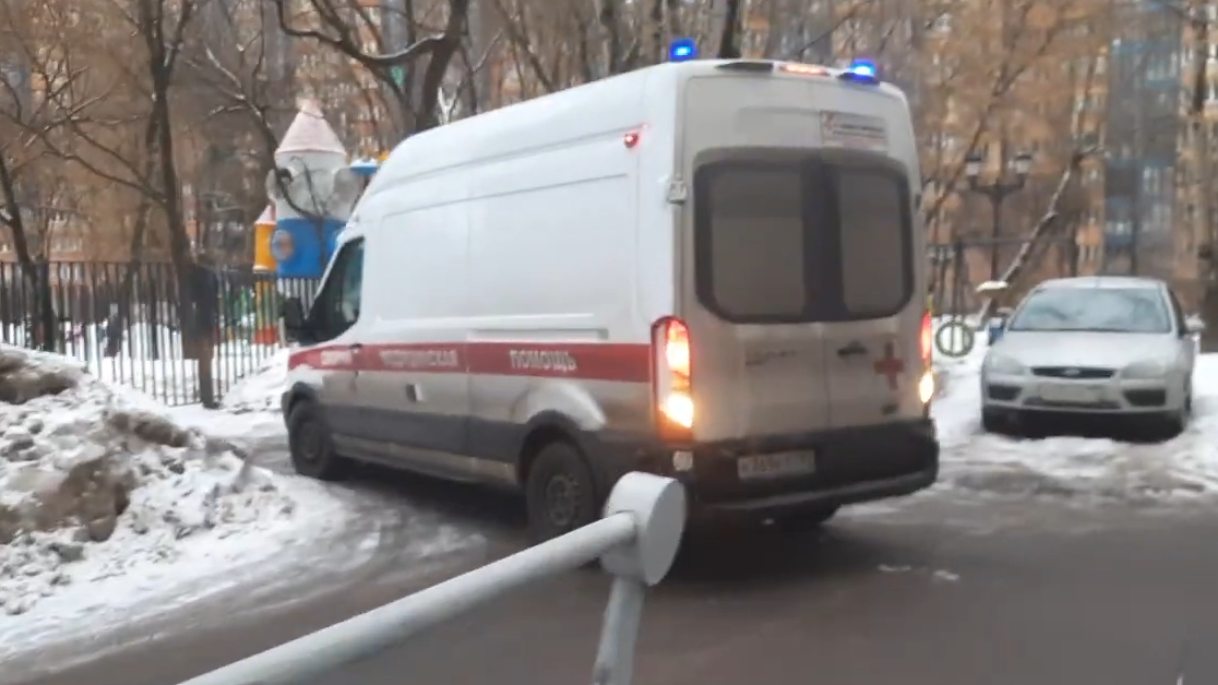ambulance: (280, 41, 936, 547)
non emergency car: (980, 272, 1193, 440)
